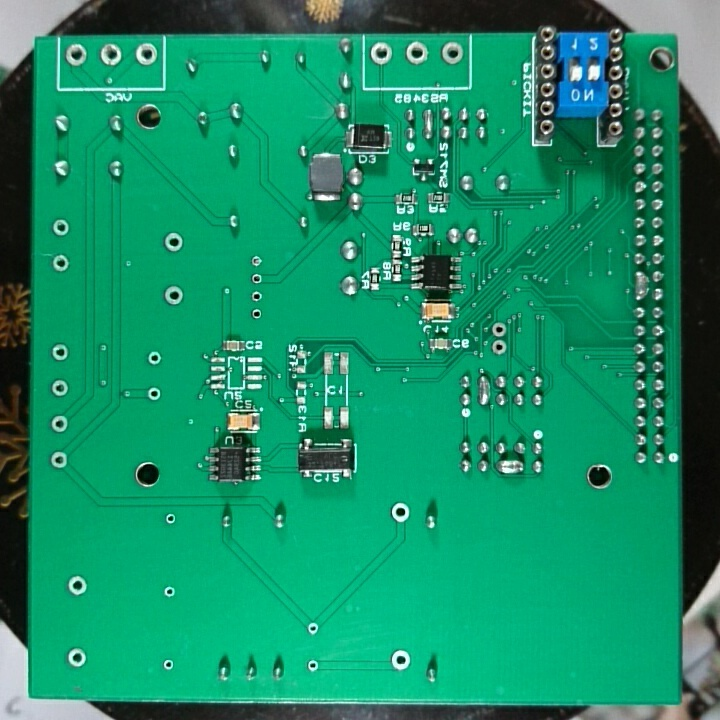F: (64, 41, 89, 71), (439, 40, 465, 68), (388, 645, 412, 675), (369, 42, 396, 68), (134, 40, 158, 69), (404, 40, 431, 65), (99, 43, 124, 67), (162, 283, 186, 308), (65, 574, 89, 598), (48, 340, 71, 365), (48, 412, 71, 435), (65, 646, 88, 669), (388, 500, 410, 524), (162, 229, 182, 254), (48, 378, 70, 399), (48, 449, 70, 470), (50, 217, 71, 238), (489, 320, 511, 338), (51, 252, 68, 275), (144, 385, 164, 404), (145, 348, 165, 367), (245, 304, 265, 322), (490, 340, 510, 358), (304, 656, 322, 675), (305, 620, 322, 638), (162, 583, 178, 602), (248, 286, 264, 305), (246, 271, 265, 286), (162, 655, 177, 672), (249, 253, 264, 269), (163, 510, 177, 526)
P: (494, 457, 526, 480), (633, 268, 651, 303), (478, 373, 493, 410), (421, 106, 437, 140)
